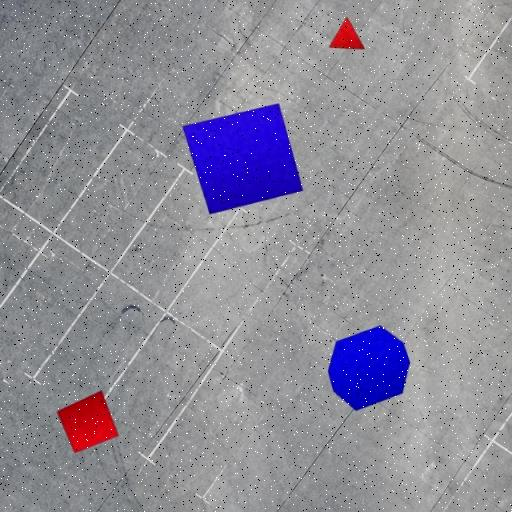BLUE_SQUARE: (182, 102, 304, 216)
RED_SQUARE: (56, 390, 119, 454)
